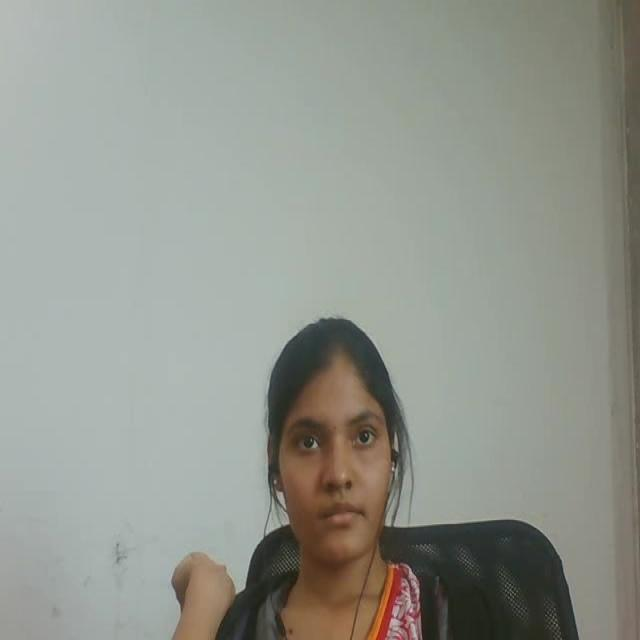Engaged: (250, 307, 413, 599)
